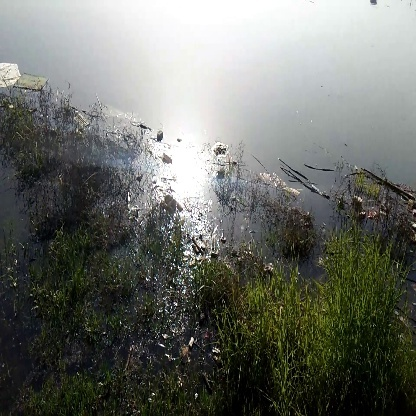branch: (274, 151, 334, 200)
